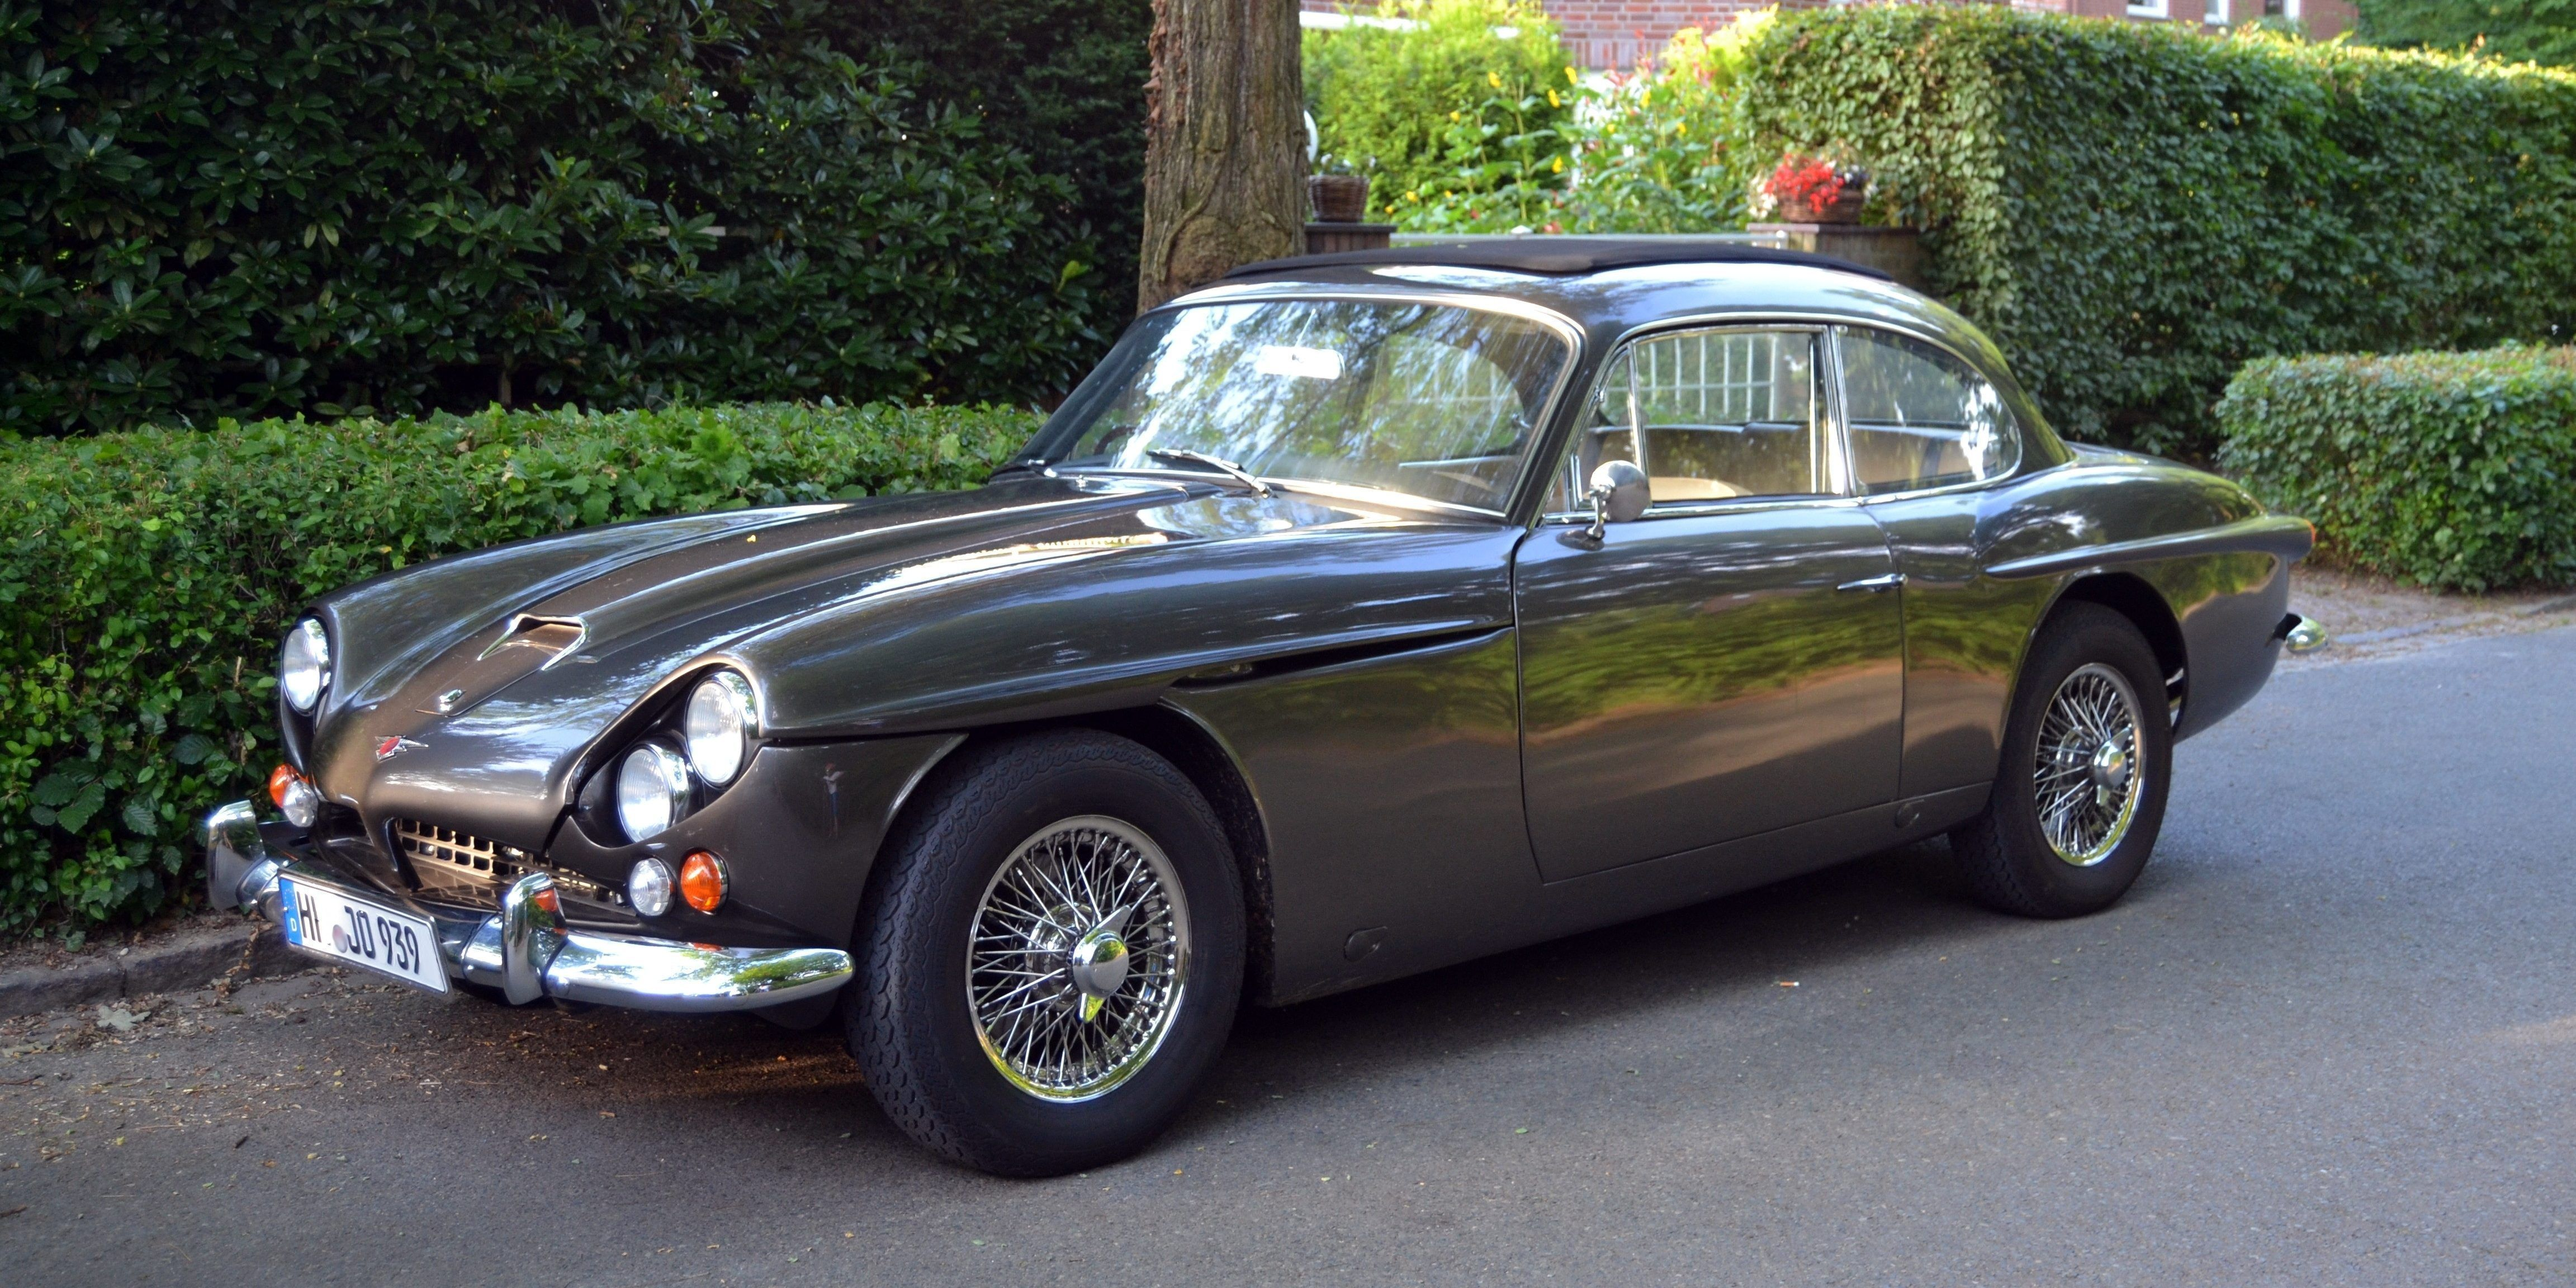headlight: (586, 628, 795, 867), (613, 848, 747, 936), (278, 595, 357, 728), (246, 749, 343, 835)
wheel: (849, 710, 1278, 1198), (1957, 608, 2178, 907)
